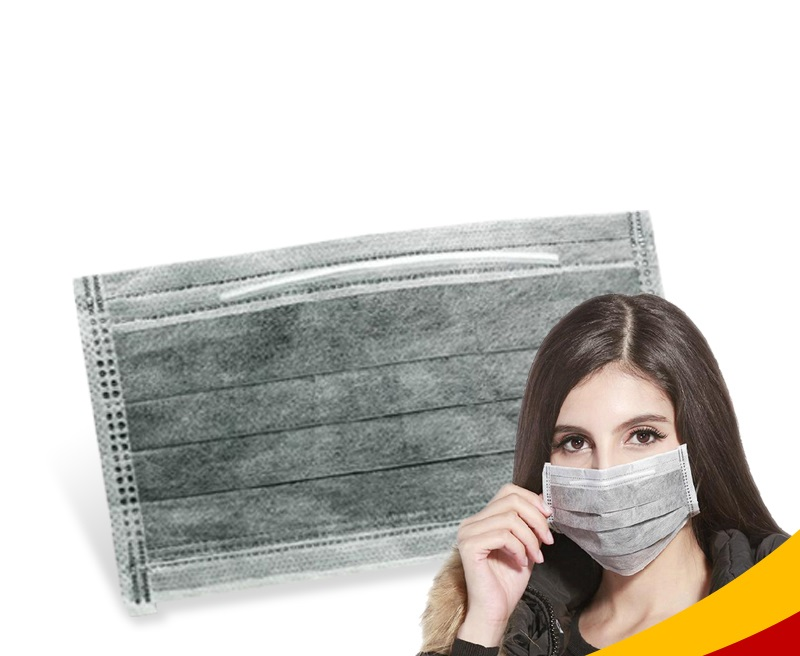face_mask: (546, 365, 686, 543)
